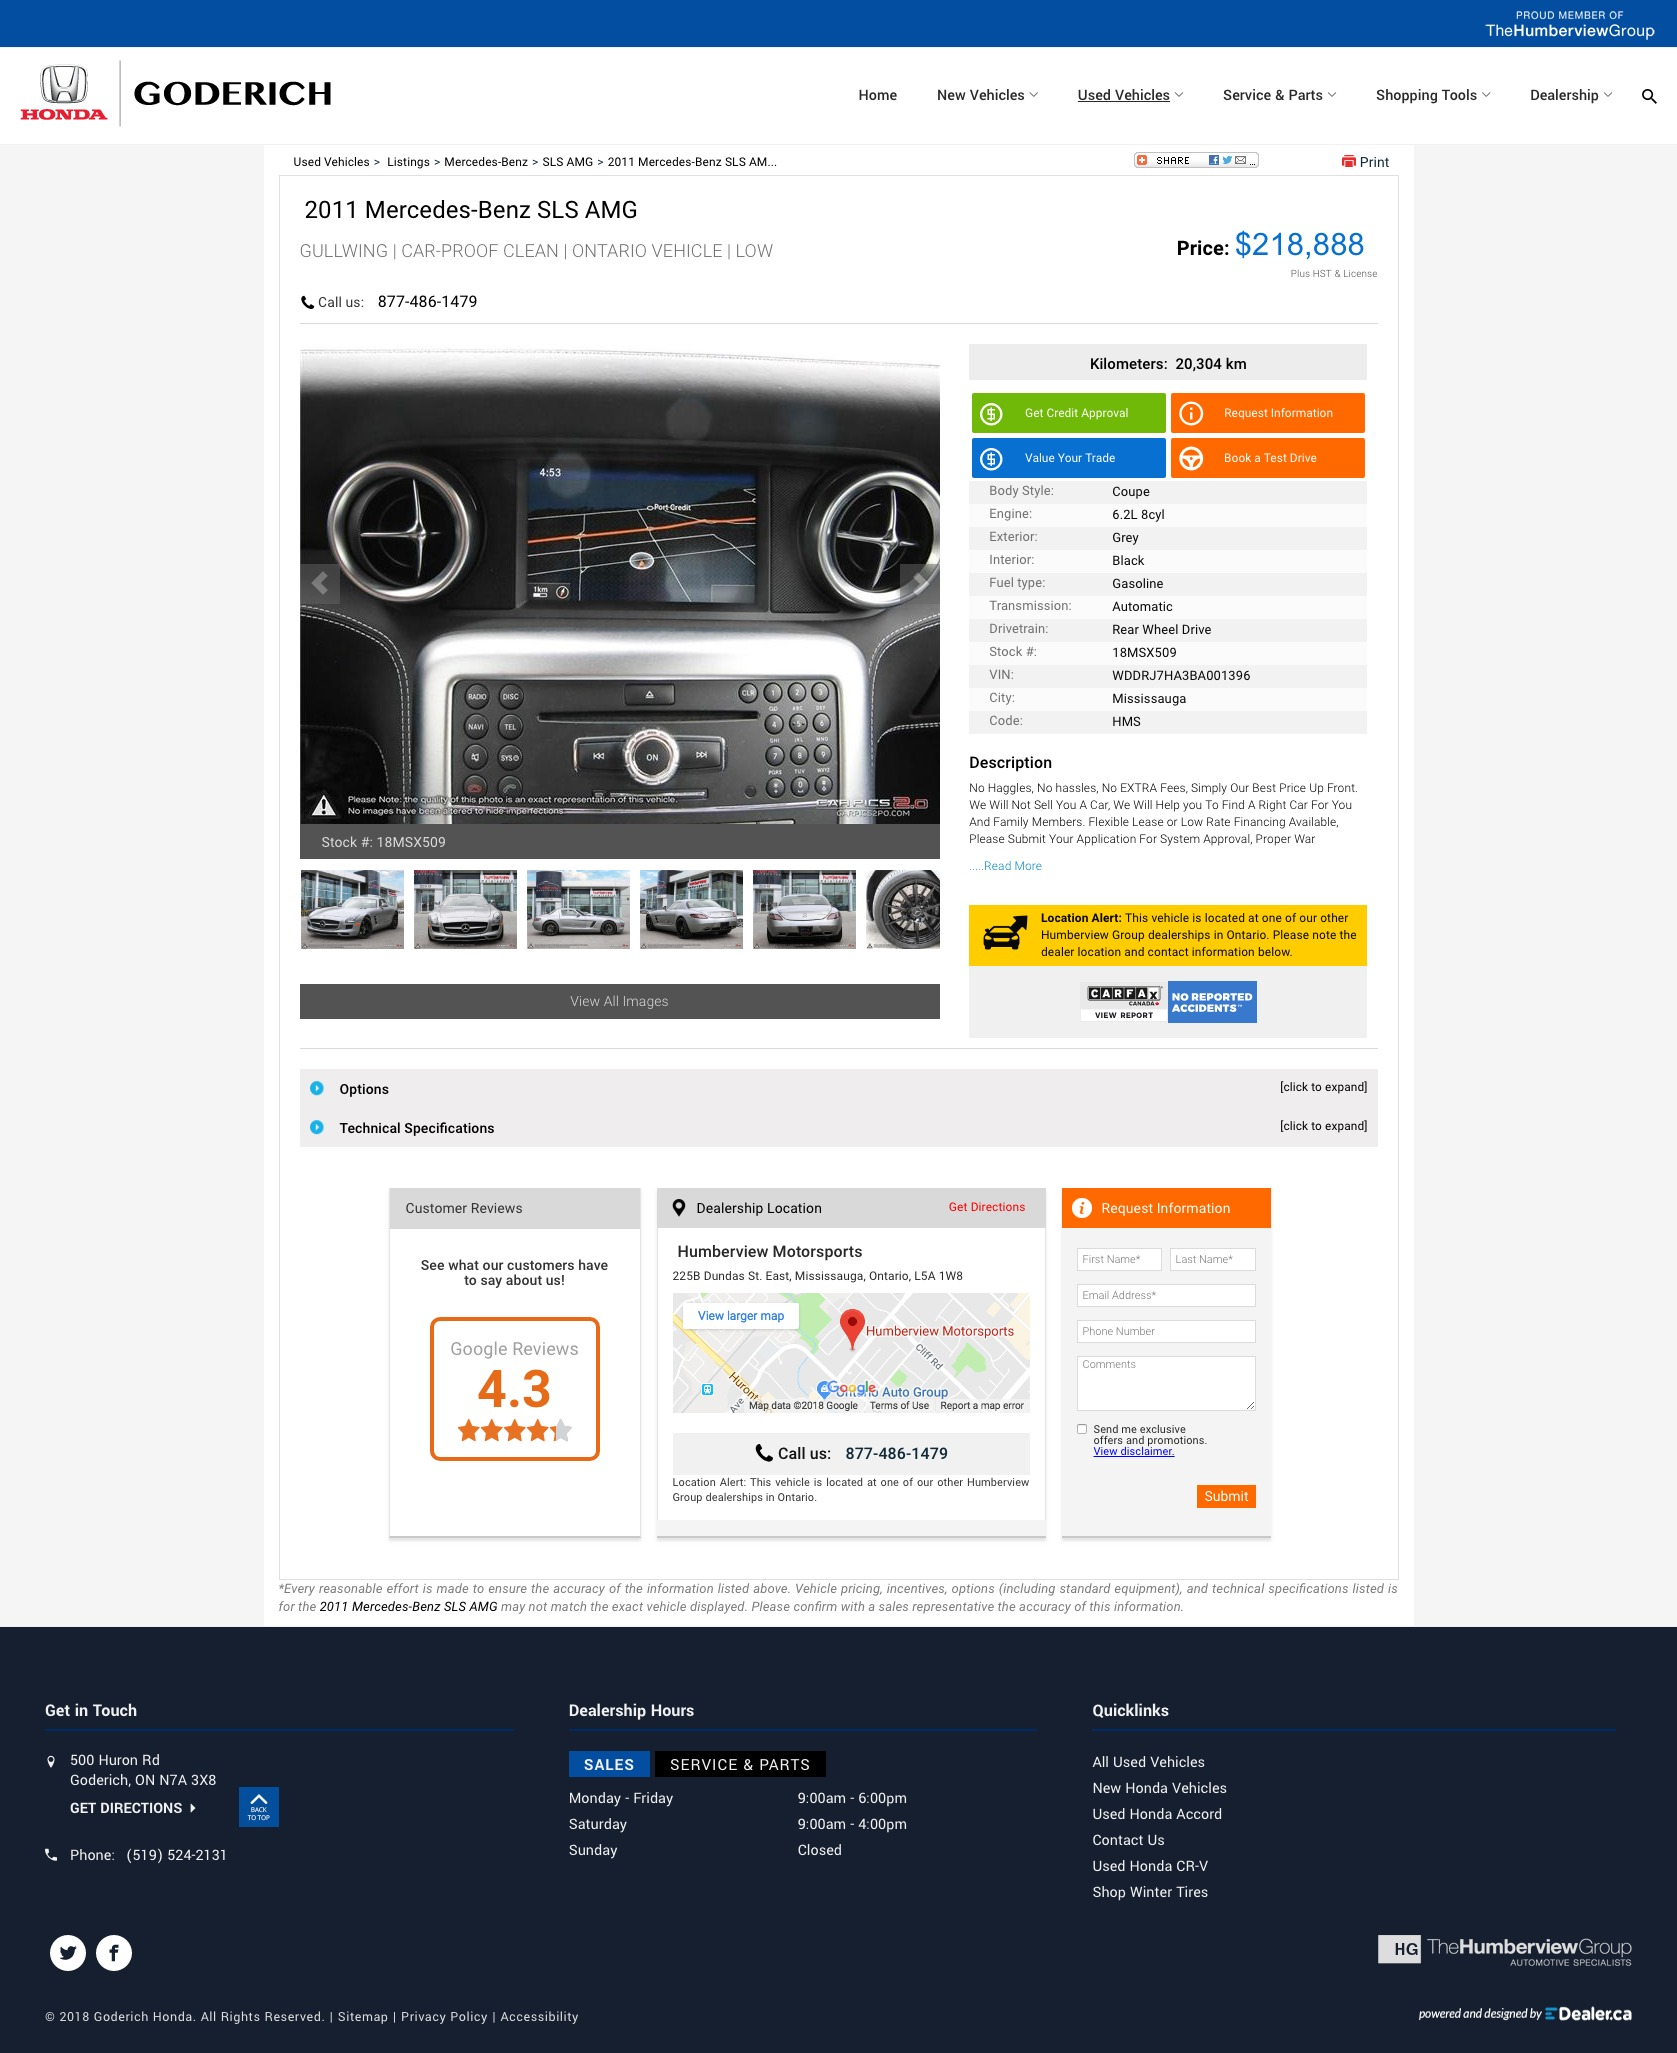car: (913, 575, 930, 597)
